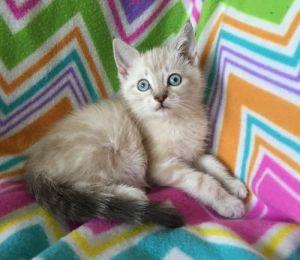siamese: (109, 17, 211, 126)
